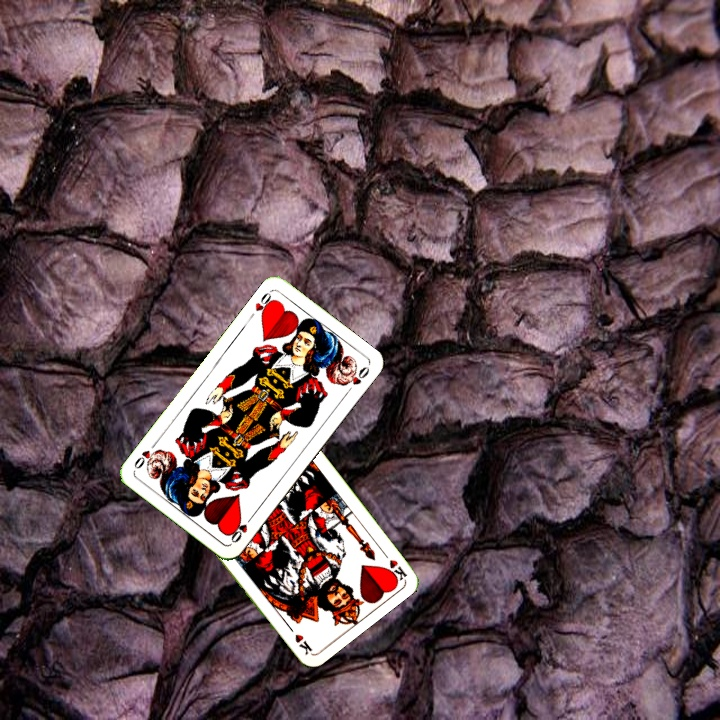HK: (377, 546, 409, 584)
HO: (225, 511, 256, 546), (251, 287, 277, 320)
